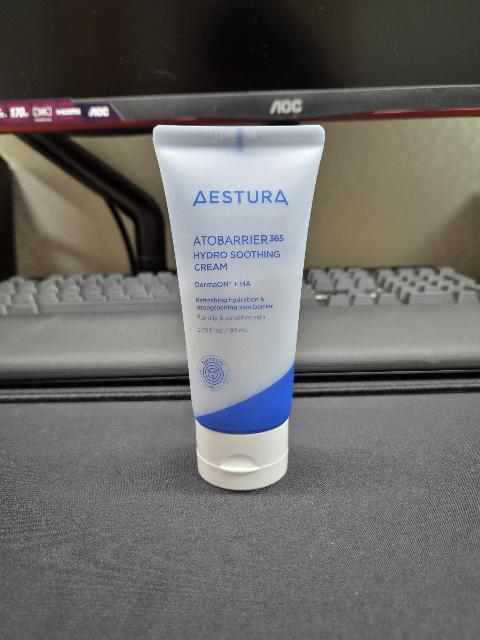handcream: (152, 125, 325, 490)
